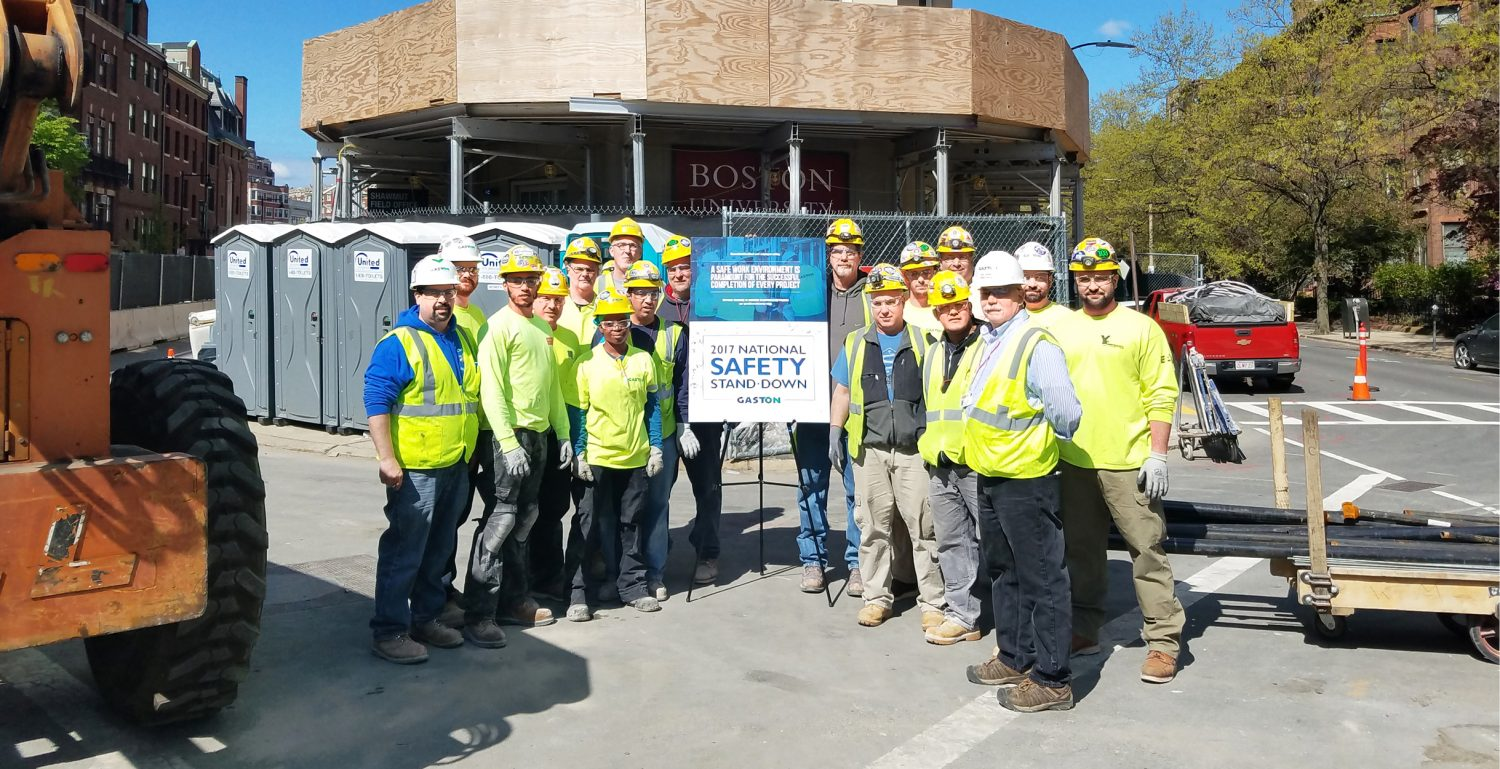Hard Hat: (407, 257, 464, 328), (972, 255, 1025, 323), (1068, 240, 1119, 310), (860, 266, 908, 333), (498, 247, 544, 310), (438, 238, 480, 303), (825, 219, 865, 287), (1015, 241, 1053, 307), (928, 277, 969, 332), (590, 294, 634, 345), (898, 242, 937, 299), (605, 217, 643, 273), (565, 235, 601, 294), (624, 265, 663, 319), (536, 262, 569, 323), (663, 236, 694, 298), (937, 225, 975, 272)
Person: (1061, 237, 1180, 684), (970, 253, 1075, 712), (364, 257, 464, 662), (469, 247, 555, 647), (568, 294, 660, 618), (856, 269, 939, 622), (921, 275, 995, 643), (660, 236, 727, 588), (803, 219, 864, 595), (626, 260, 665, 597), (1014, 242, 1070, 337), (436, 236, 487, 340), (552, 238, 604, 338), (598, 216, 649, 294), (895, 244, 940, 331), (936, 227, 975, 284)
Vest: (378, 293, 485, 468), (966, 290, 1064, 479), (844, 297, 942, 459), (922, 311, 992, 471), (629, 308, 679, 443)
